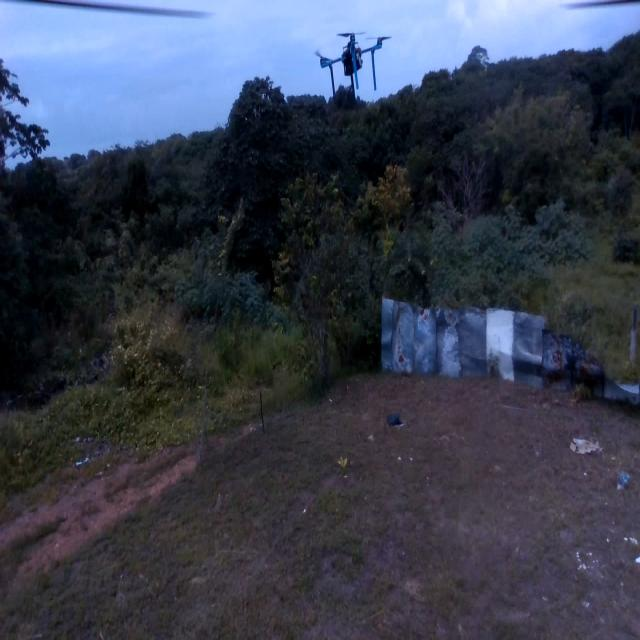-uav-: (307, 27, 395, 117)
